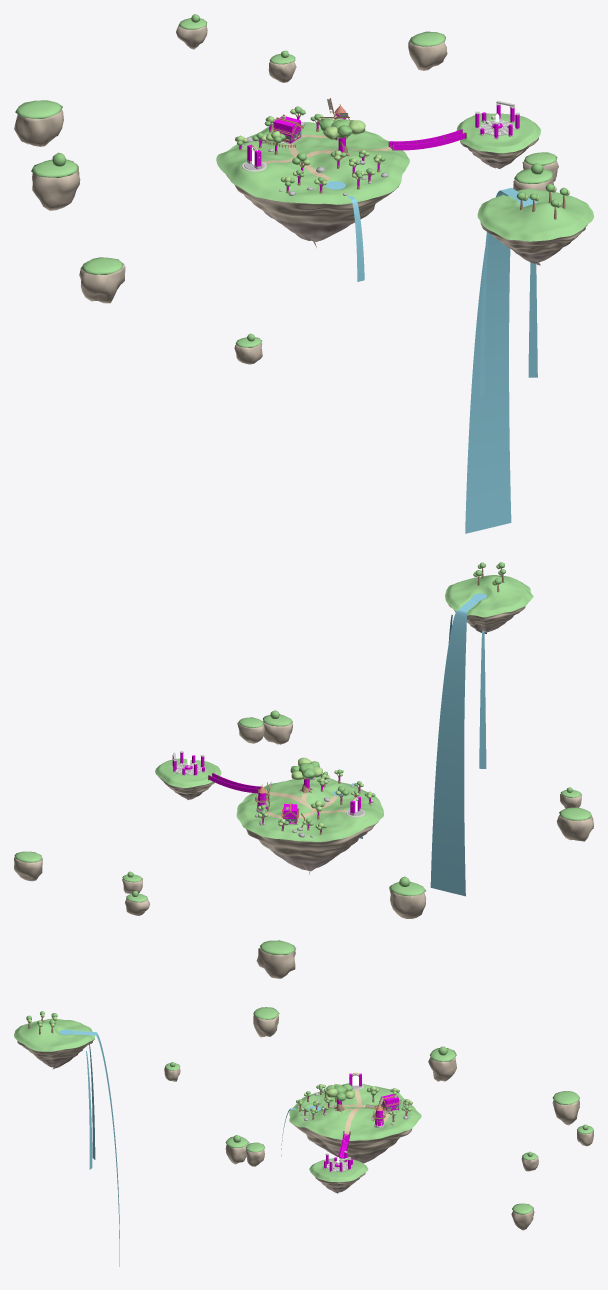
Rendered from windward.draco.glb.
3 views of the same model, one above another, from view 1: azimuth 30°, elevation 25°; view 2: azimuth 150°, elevation 25°; view 3: azimuth 270°, elevation 25° (orthographic). The views are drawn at different scales.
Visible parts, largest first — view 1: falls_drop, terrain_main, skyisle_top, cliff_main, col_props, float_isle_4, terrain_isle, float_isle_3, float_isle_5, cliff_sky, float_isle_1, falls_tier_0 (+7 smaller); view 2: falls_drop, terrain_main, skyisle_top, cliff_main, col_props, float_isle_3, float_isle_4, terrain_isle, float_isle_5, falls_tier_1, float_isle_8, float_isle_1 (+3 smaller); view 3: terrain_main, skyisle_top, cliff_main, col_props, terrain_isle, float_isle_4, float_isle_3, cliff_sky, float_isle_5, float_isle_8, falls_drop, float_isle_1 (+3 smaller).
Boxes of the visible parts, x1=… form: falls_drop: x1=465, y1=188, x2=528, y2=533; terrain_main: x1=216, y1=122, x2=409, y2=204; skyisle_top: x1=477, y1=189, x2=593, y2=241; cliff_main: x1=226, y1=174, x2=398, y2=247; col_props: x1=239, y1=105, x2=519, y2=191; float_isle_4: x1=31, y1=152, x2=80, y2=210; terrain_isle: x1=456, y1=113, x2=540, y2=153; float_isle_3: x1=14, y1=100, x2=63, y2=146; float_isle_5: x1=79, y1=257, x2=125, y2=303; cliff_sky: x1=480, y1=221, x2=587, y2=265; float_isle_1: x1=408, y1=31, x2=447, y2=70; falls_tier_0: x1=528, y1=262, x2=537, y2=377; falls_drop: x1=430, y1=598, x2=479, y2=896; terrain_main: x1=236, y1=776, x2=383, y2=841; skyisle_top: x1=445, y1=575, x2=533, y2=617; cliff_main: x1=246, y1=822, x2=377, y2=874; col_props: x1=172, y1=753, x2=370, y2=832; float_isle_3: x1=256, y1=940, x2=296, y2=978; float_isle_4: x1=389, y1=876, x2=425, y2=918; terrain_isle: x1=155, y1=758, x2=221, y2=787; float_isle_5: x1=556, y1=807, x2=593, y2=841; falls_tier_1: x1=479, y1=630, x2=486, y2=768; float_isle_8: x1=262, y1=710, x2=292, y2=744; float_isle_1: x1=14, y1=851, x2=42, y2=881; terrain_main: x1=289, y1=1083, x2=421, y2=1140; skyisle_top: x1=14, y1=1018, x2=94, y2=1051; cliff_main: x1=293, y1=1124, x2=412, y2=1163; col_props: x1=299, y1=1073, x2=406, y2=1171; terrain_isle: x1=309, y1=1158, x2=368, y2=1182; float_isle_4: x1=428, y1=1046, x2=456, y2=1081; float_isle_3: x1=552, y1=1091, x2=579, y2=1125; cliff_sky: x1=17, y1=1039, x2=94, y2=1069; float_isle_5: x1=253, y1=1007, x2=279, y2=1037; float_isle_8: x1=225, y1=1135, x2=249, y2=1164; falls_drop: x1=73, y1=1030, x2=119, y2=1266; float_isle_1: x1=511, y1=1203, x2=534, y2=1230.
Bounding box in the file's own units: 198 × 130 × 269.
